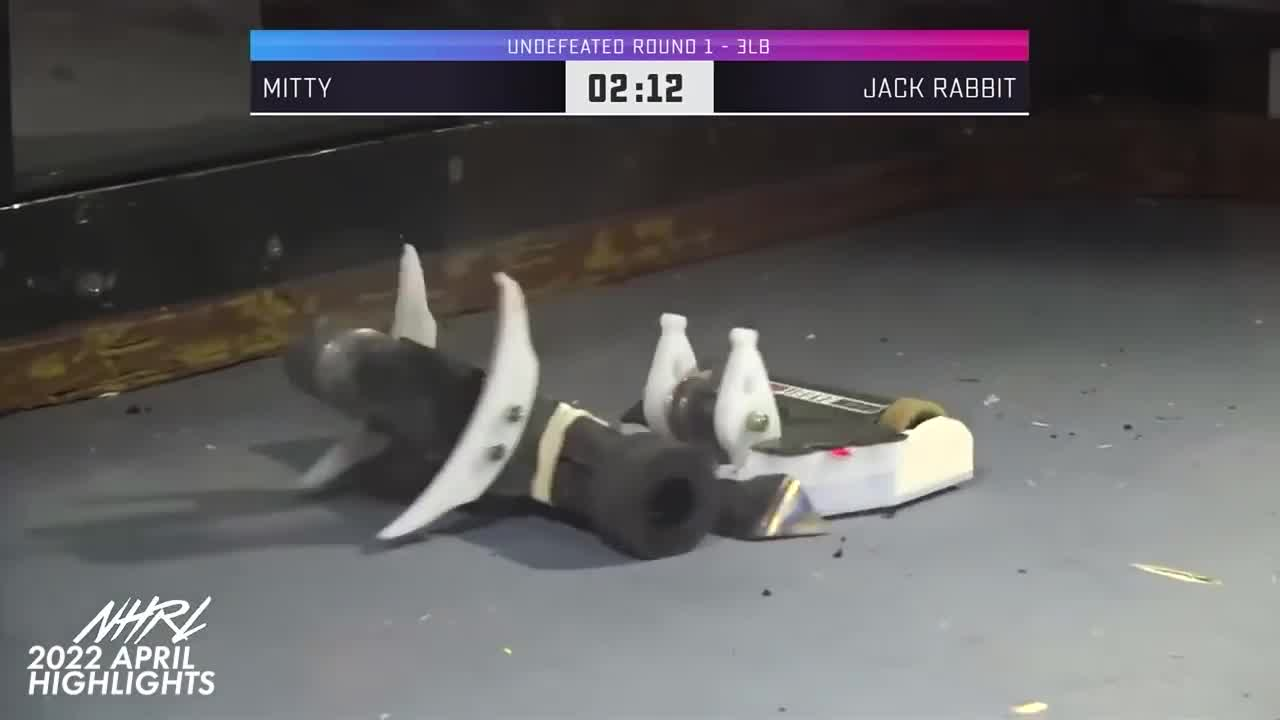combatbot: (284, 327, 711, 567), (619, 378, 977, 543)
